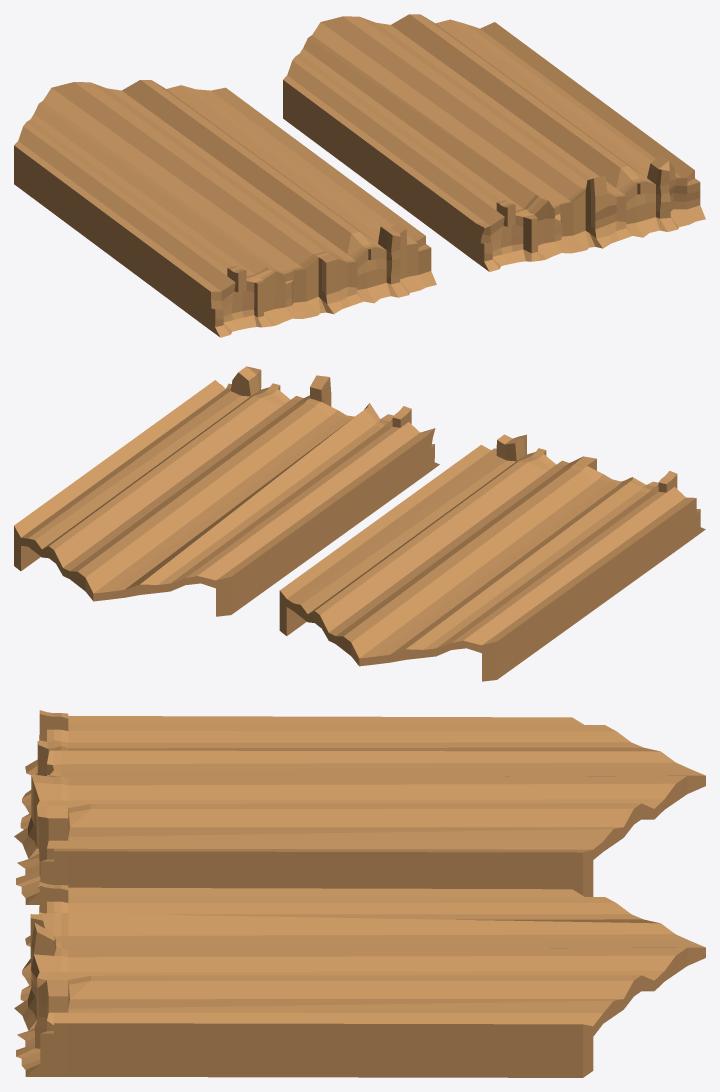
The model's file is Canyon.FBX.
The picture shows the model from 3 angles, top to bottom: view 1: azimuth 30°, elevation 25°; view 2: azimuth 150°, elevation 25°; view 3: azimuth 270°, elevation 25°; orthographic projection. The views are drawn at different scales.
Parts seen in each view (by area): view 1: Box001, Box034; view 2: Box034, Box001; view 3: Box034, Box001.
Boxes of the visible parts, x1,y1,x2,y2 form: Box001: (14, 80, 436, 337); Box034: (283, 14, 705, 271); Box034: (14, 366, 439, 616); Box001: (279, 434, 705, 681); Box034: (14, 882, 705, 1077); Box001: (14, 710, 705, 904).
Bounding box in the file's own units: 814 × 104 × 765.
